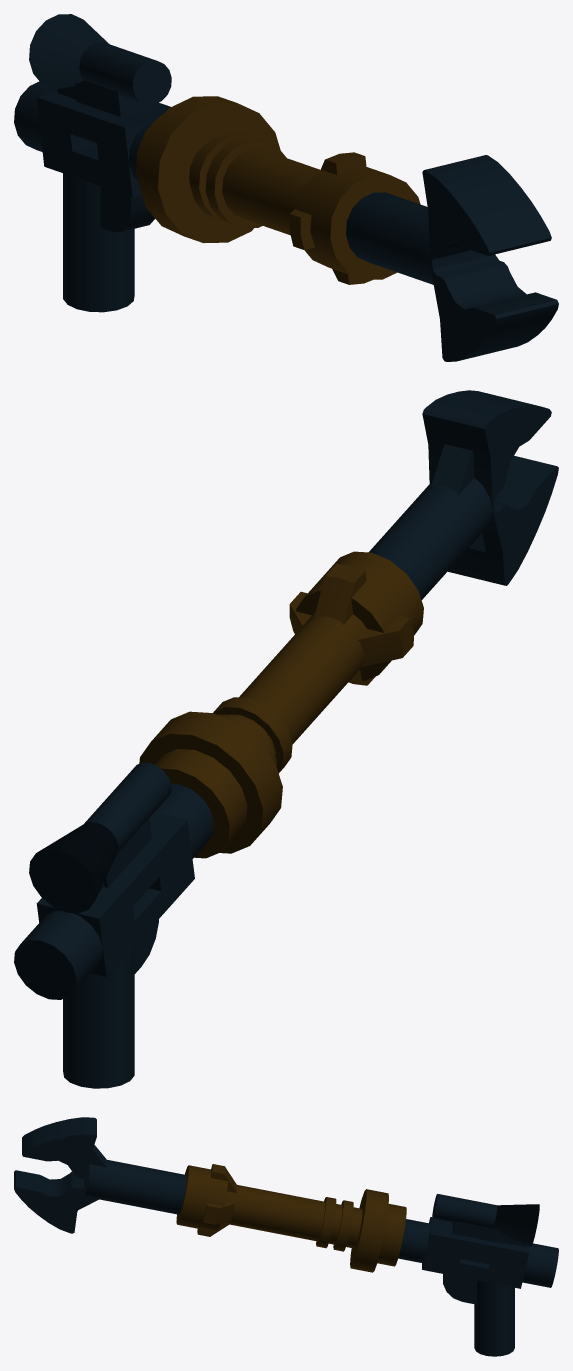
Rendered from Din Djarin rifle.dae.
3 renders of one model, top to bottom at view 1: azimuth 30°, elevation 25°; view 2: azimuth 150°, elevation 25°; view 3: azimuth 270°, elevation 25°, orthographic. The views are drawn at different scales.
Size of the model in its own units: 16 by 108 by 48.48.
